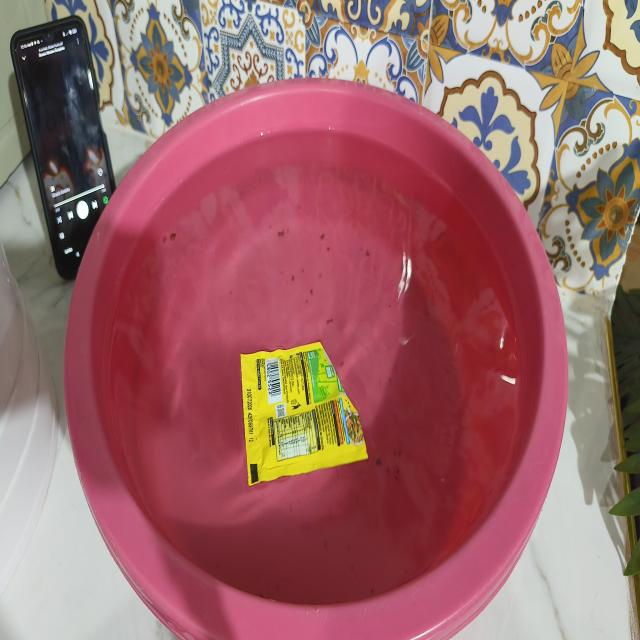Plastic Wrapper: (241, 342, 368, 486)
